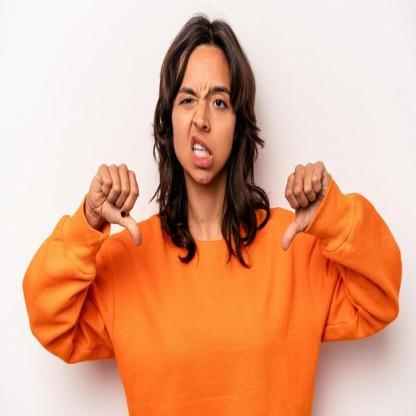thumb_down: (86, 161, 146, 249), (279, 159, 334, 253)
